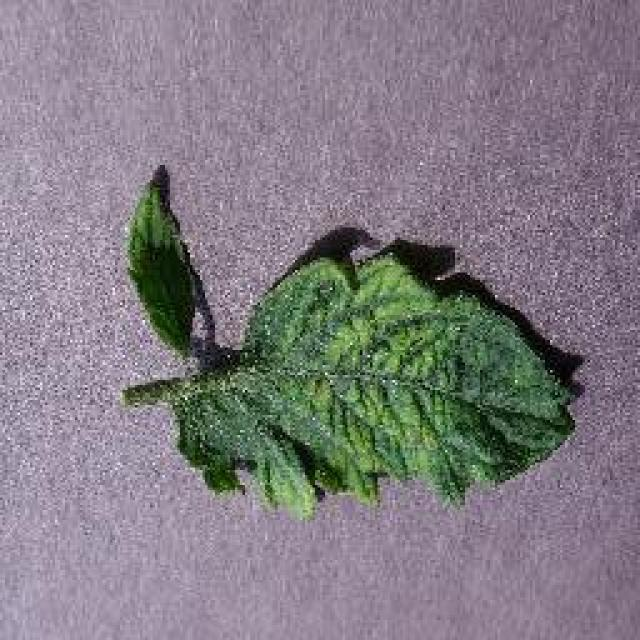Tomato spider mites leaf: (162, 252, 576, 518), (126, 184, 222, 354)
